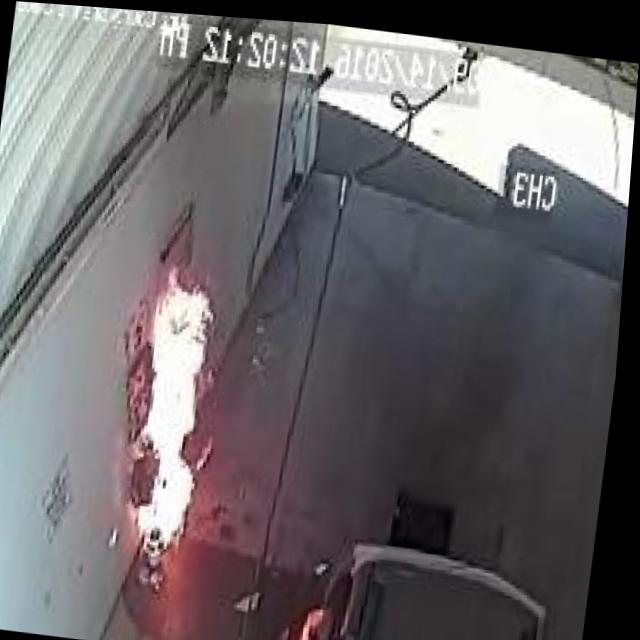fire: (119, 249, 250, 566)
